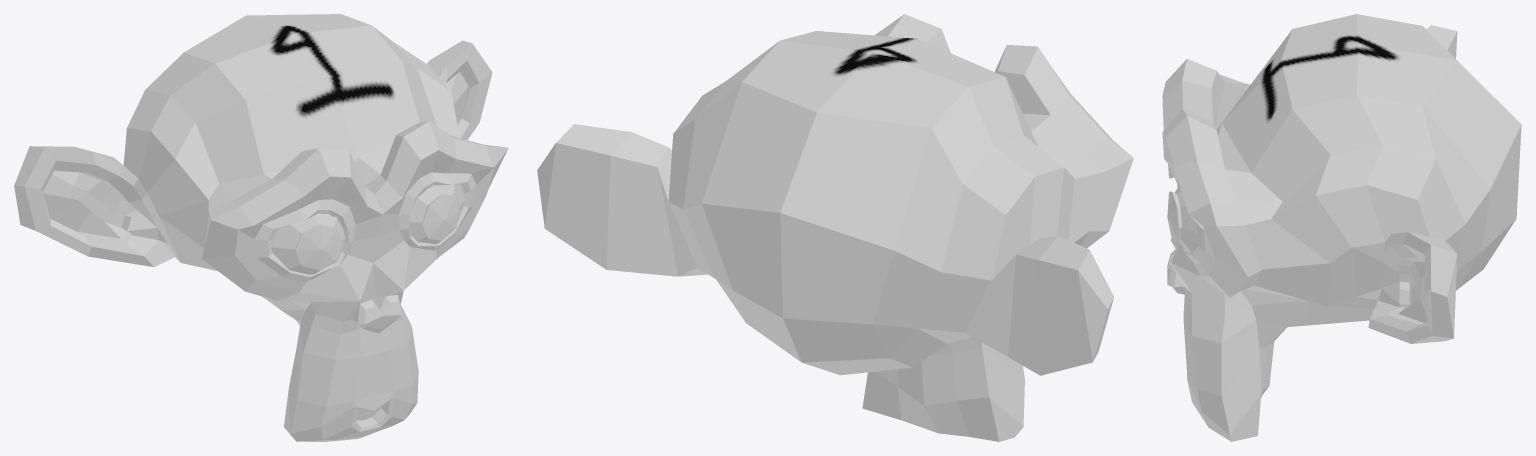
3 renders of one model, left to right at view 1: azimuth 30°, elevation 25°; view 2: azimuth 150°, elevation 25°; view 3: azimuth 270°, elevation 25°, orthographic. The views are drawn at different scales.
Visible parts, largest first — view 1: Suzanne; view 2: Suzanne; view 3: Suzanne.
Boxes of the visible parts, x1,y1,x2,y2 form: Suzanne: (14, 14, 508, 441); Suzanne: (537, 14, 1133, 441); Suzanne: (1162, 14, 1521, 441).
Bounding box in the file's own units: 2.73 × 1.97 × 1.7.
1 material, 1 textured.
